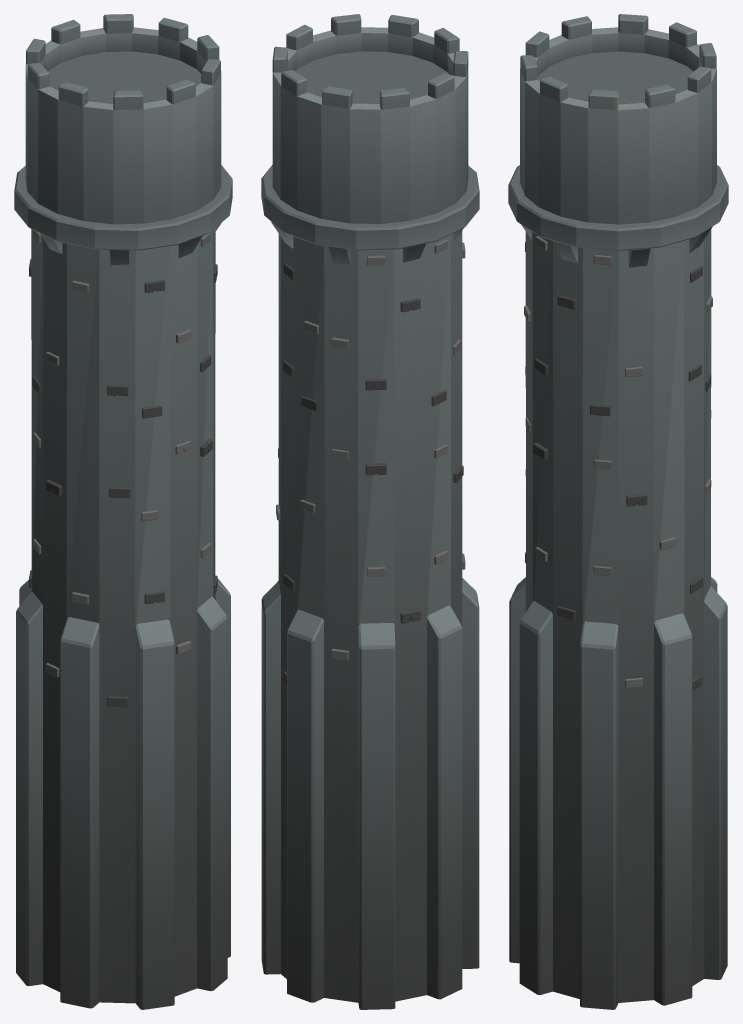
File: ZLP_Build_C_2.FBX
3 views of the same model, side by side, from view 1: azimuth 30°, elevation 25°; view 2: azimuth 150°, elevation 25°; view 3: azimuth 270°, elevation 25° (orthographic).
Parts seen in each view (by area): view 1: ZLP_Build_C_2; view 2: ZLP_Build_C_2; view 3: ZLP_Build_C_2.
Boxes of the visible parts, x1,y1,x2,y2 form: ZLP_Build_C_2: (14, 14, 232, 1009); ZLP_Build_C_2: (261, 14, 479, 1009); ZLP_Build_C_2: (508, 14, 728, 1009).
Size of the model in its own units: 878 by 4002 by 878.
